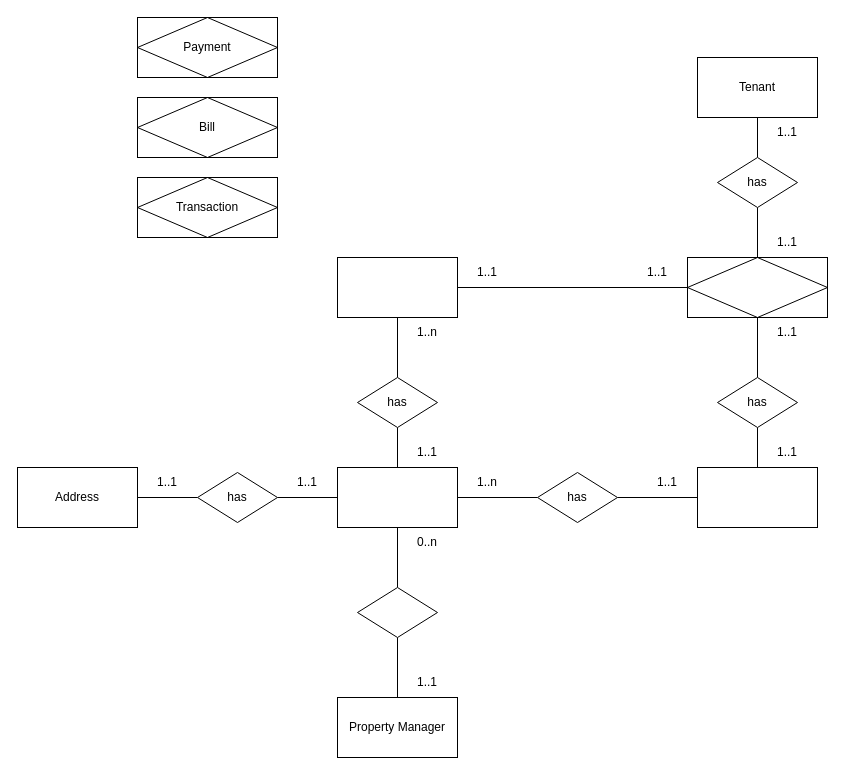
Some shapes in this 845 by 775 pixel diagram are drawn without their labels. Each missing label, with the box of its shape:
Contract: (686, 256, 828, 318)
Flat: (336, 256, 458, 318)
manages: (356, 586, 438, 638)
Owner: (696, 466, 818, 528)
Property: (336, 466, 458, 528)
